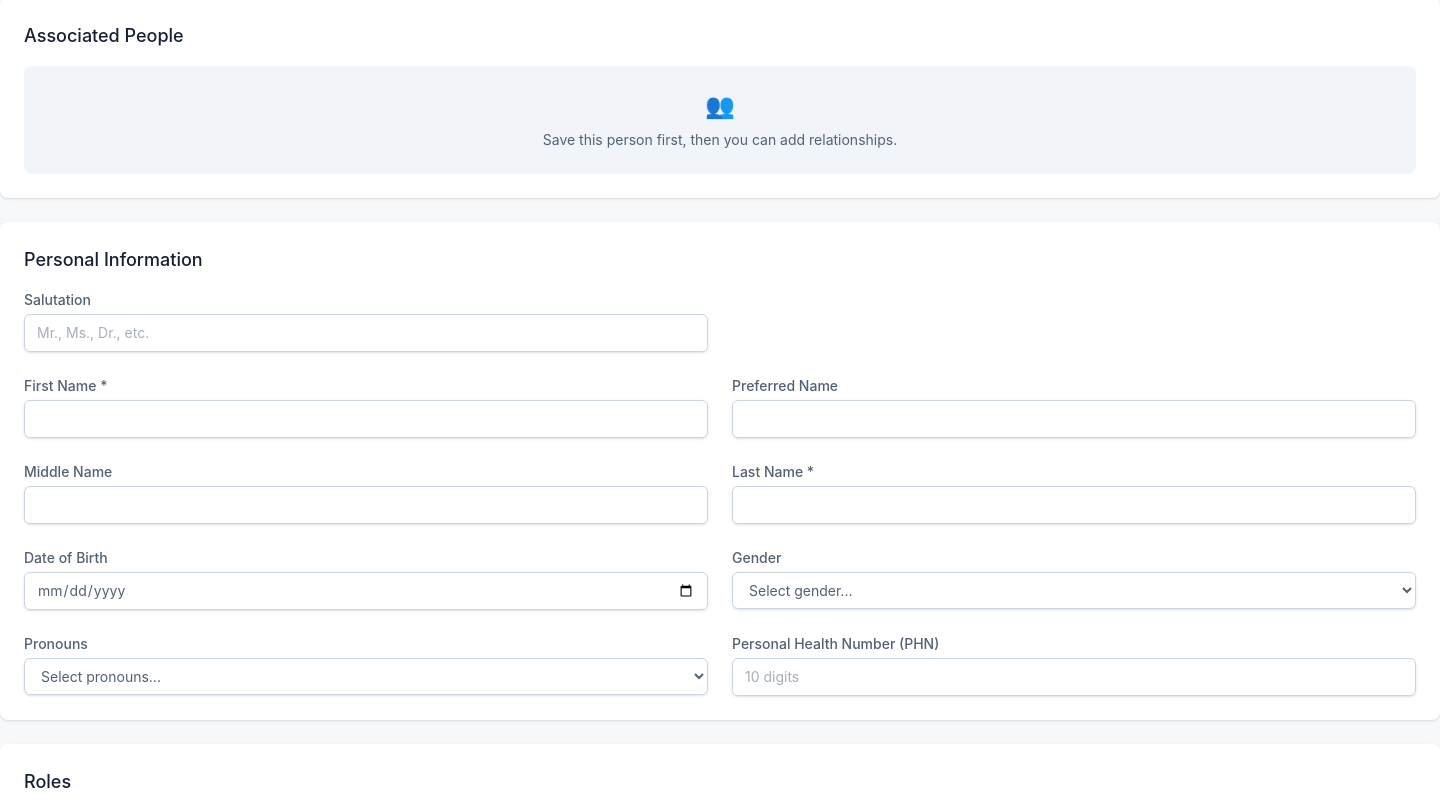
Test: ContactForm › Form Validation › shows validation message when PHN is not 10 digits
Type "John" into the field labelled "First Name *". click: (366, 419)
box: [24,400,708,438]
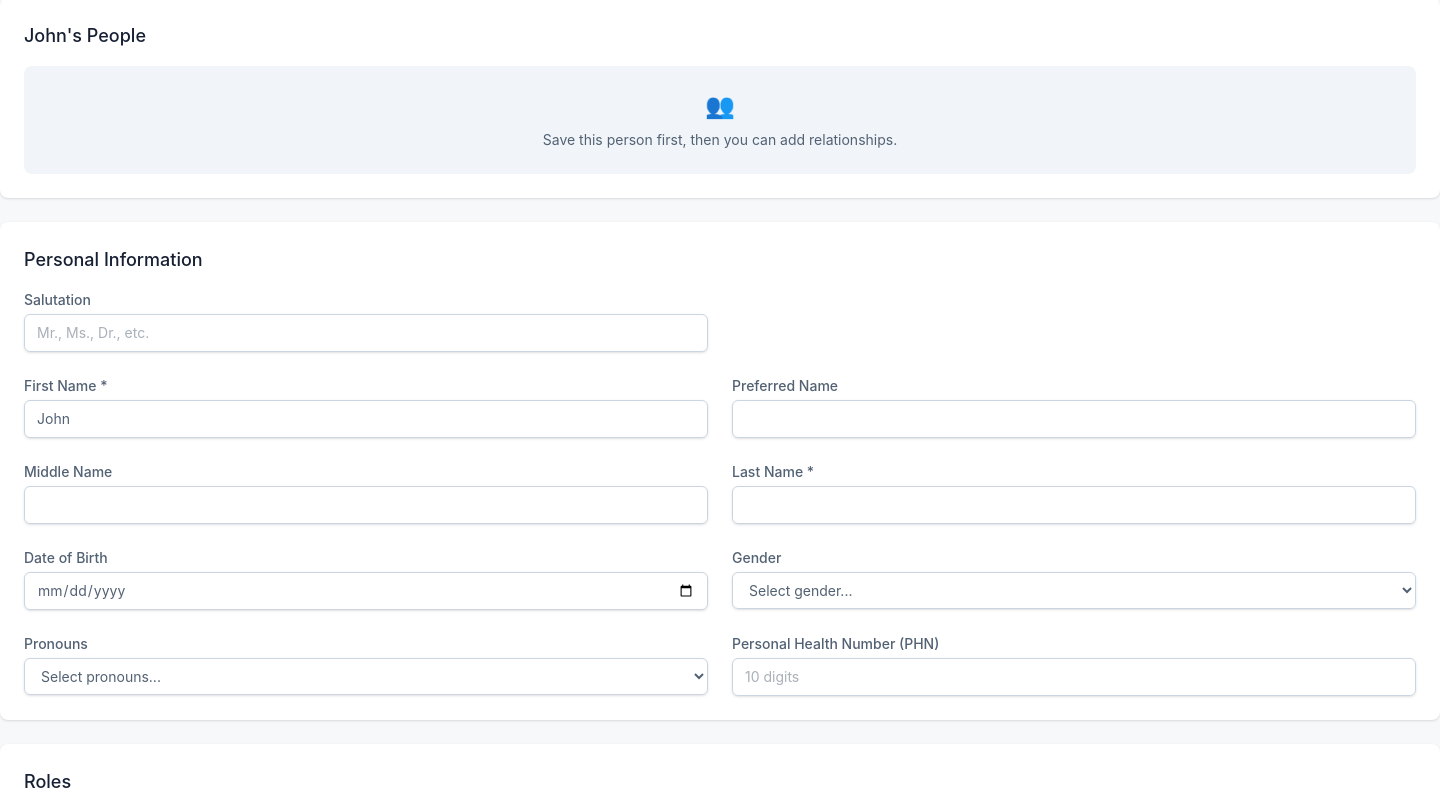
Type "Doe" into the field labelled "Last Name *". click: (1074, 505)
box: [732,486,1416,524]
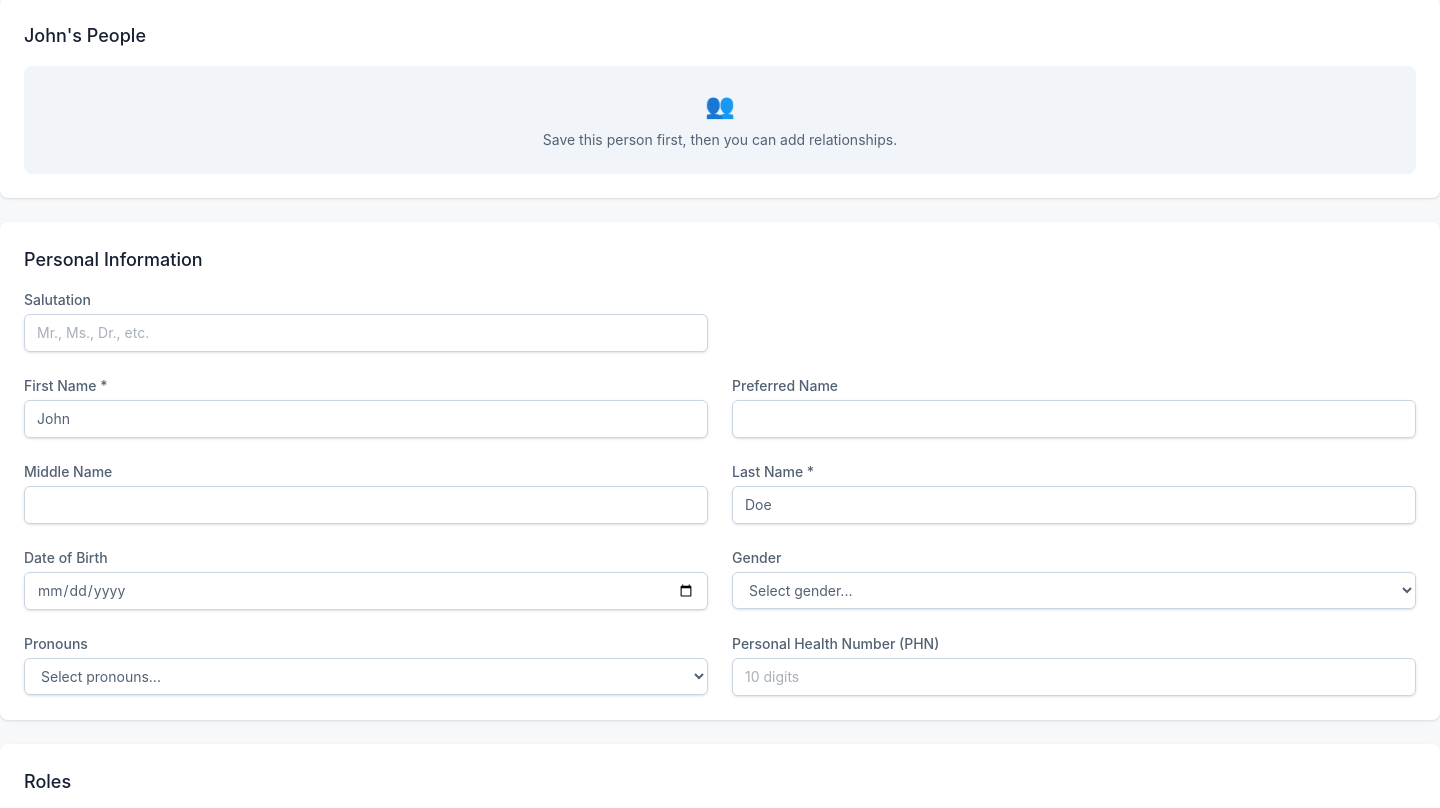
Type "12345" into the field labelled "Personal Health Number (PHN)". click: (1074, 677)
box: [732,658,1416,696]
(page scrolled)
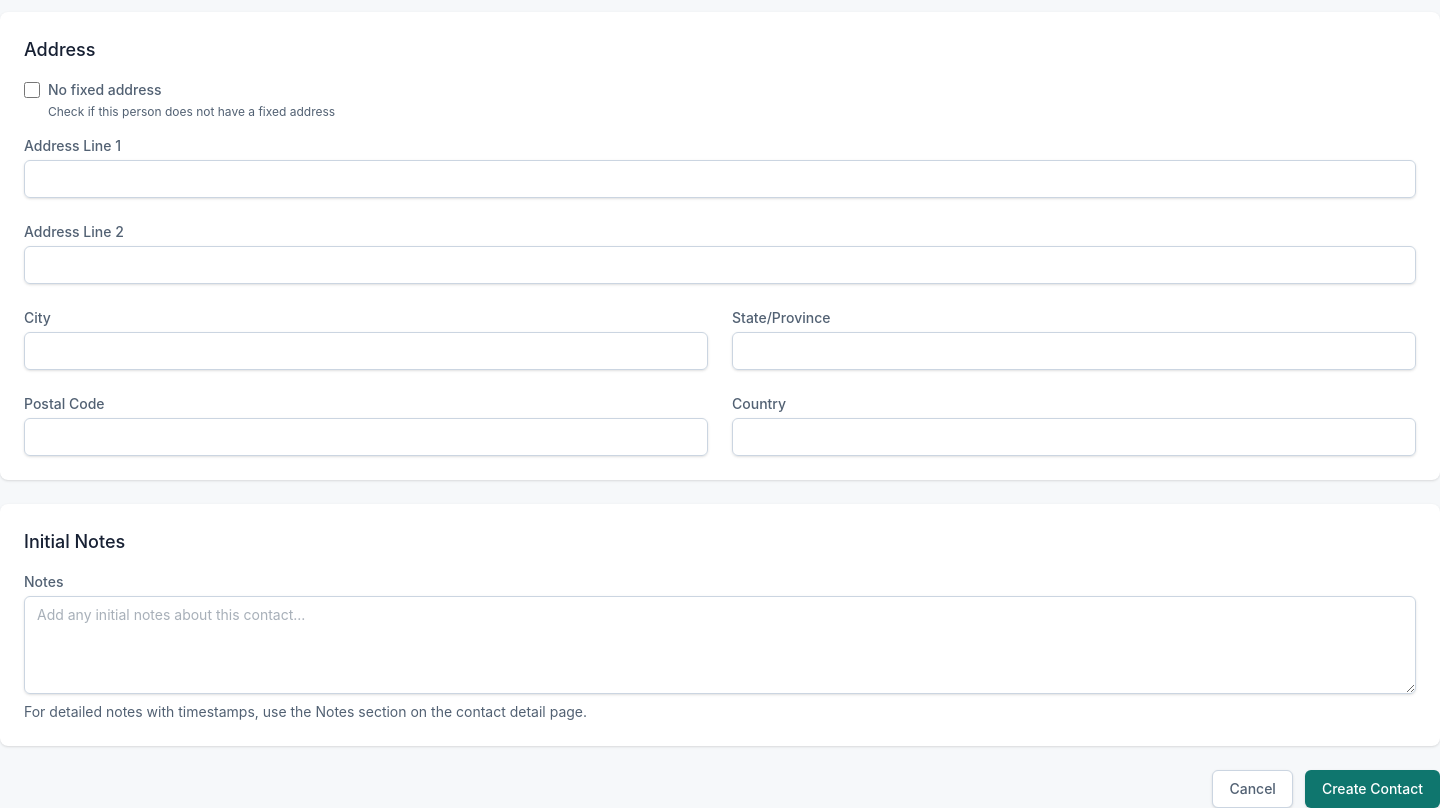
Click the button "Create Contact". click: (1372, 789)
box: [1305,770,1439,807]
(page scrolled)
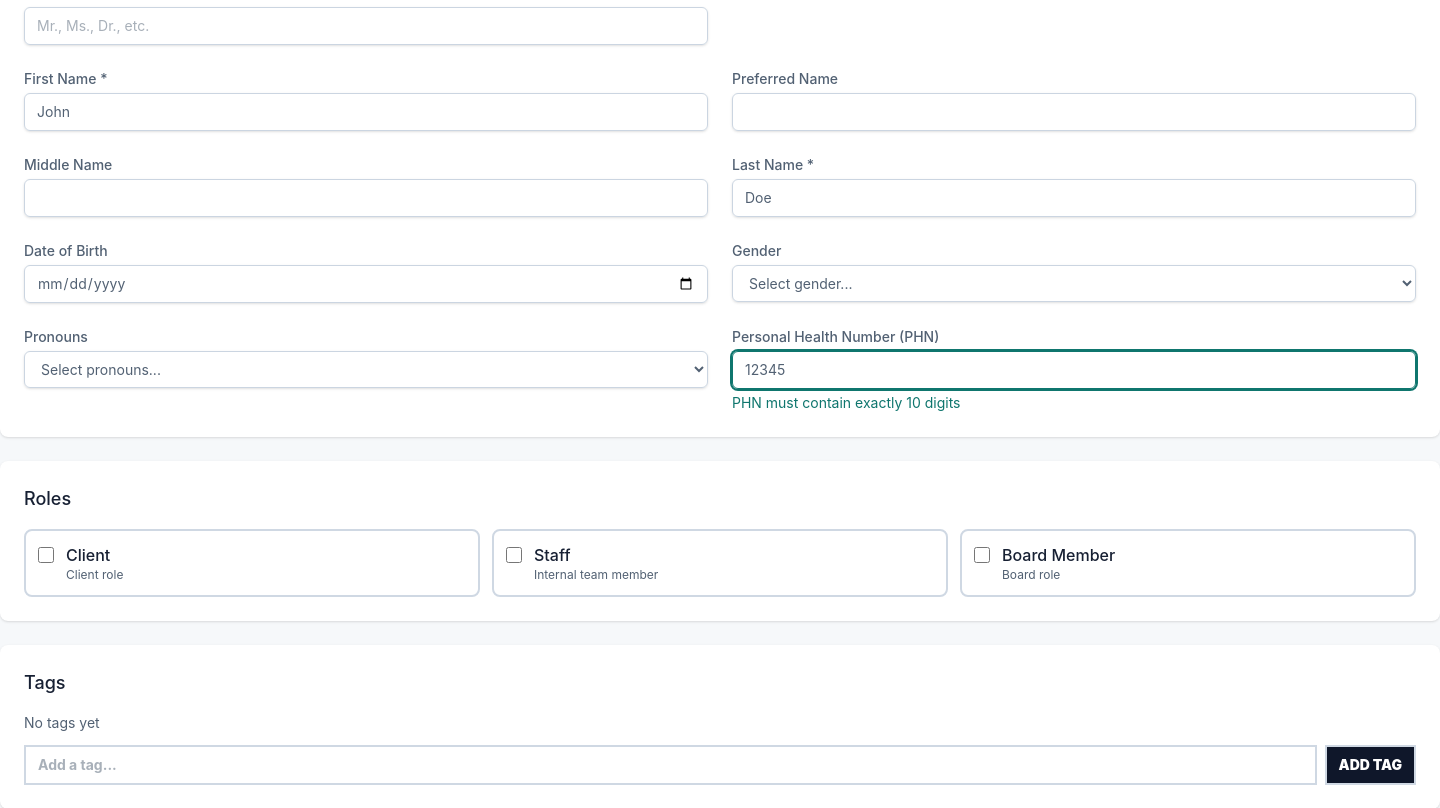
Now the text "PHN must contain exactly 10 digits" is shown, box [732,394,960,411]
